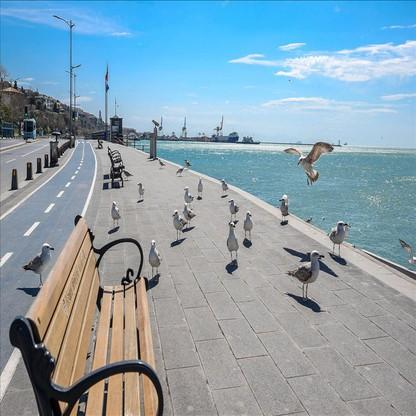obstacle: (8, 204, 174, 414), (107, 138, 134, 183)
